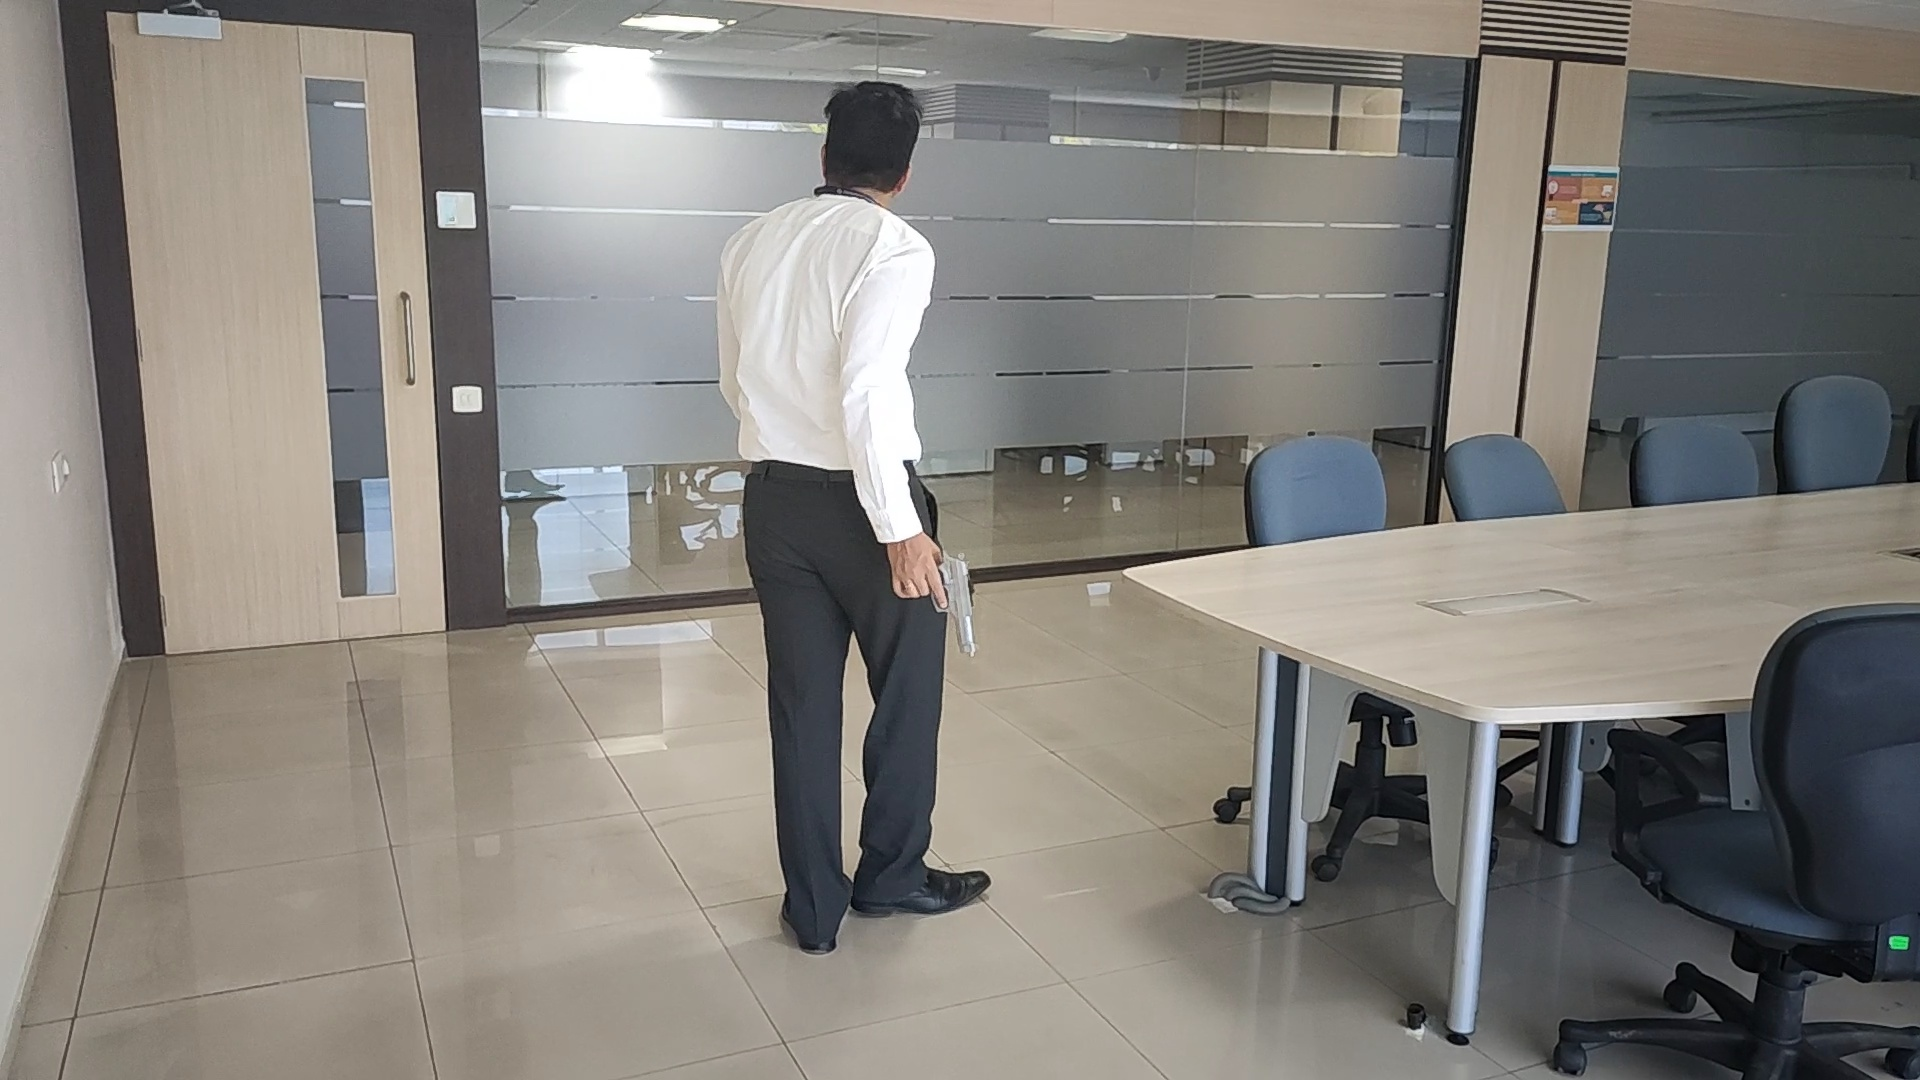gun: (930, 550, 978, 659)
